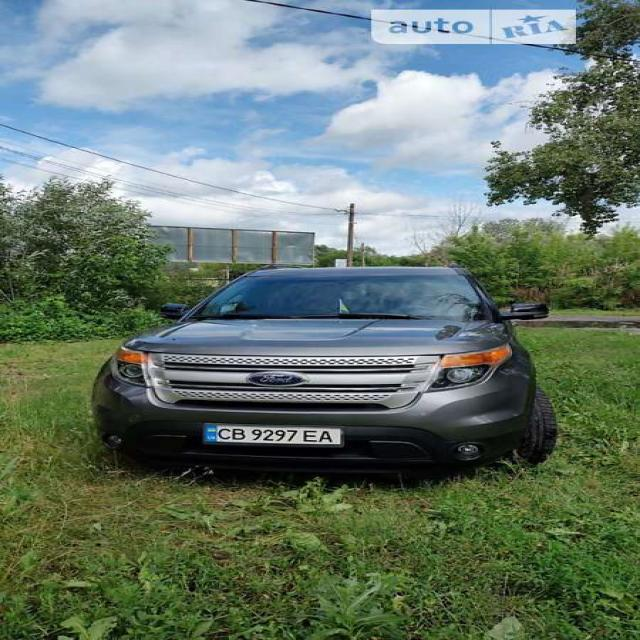plate: (201, 420, 362, 455)
